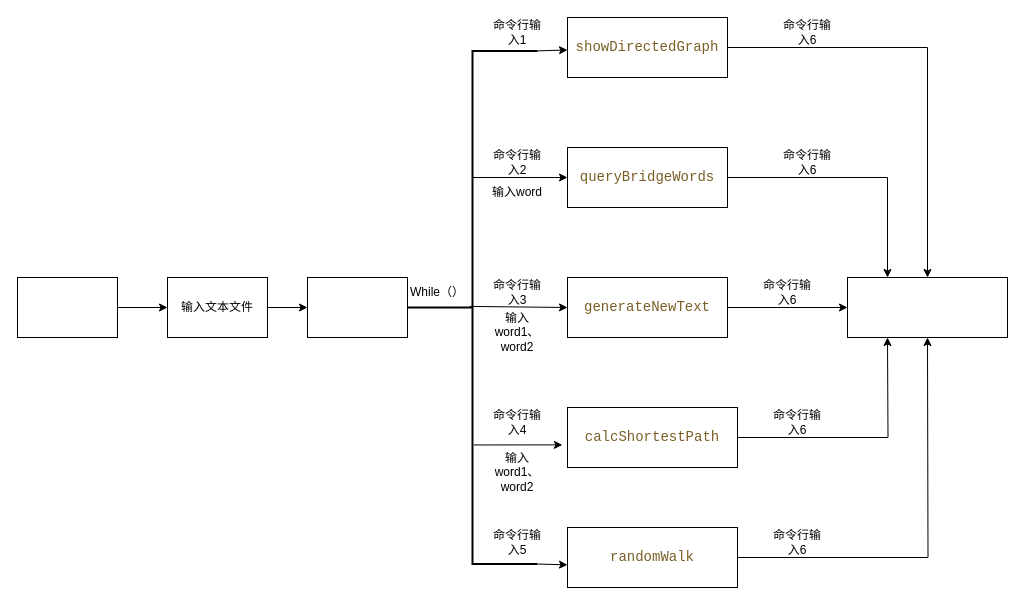
This 1025x605 diagram has some shape labels left out. The shapes that lost their labels are listed below. From the top down, each one's centre as x and y in pixels, then its label:
At pixel 67 307: "start".
At pixel 357 307: "readTextFile 构建有向图".
At pixel 927 307: "exit".
